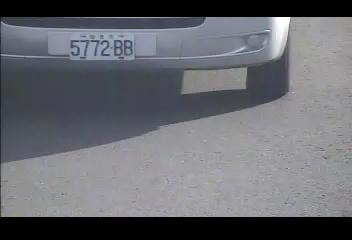plate: (67, 28, 134, 62)
